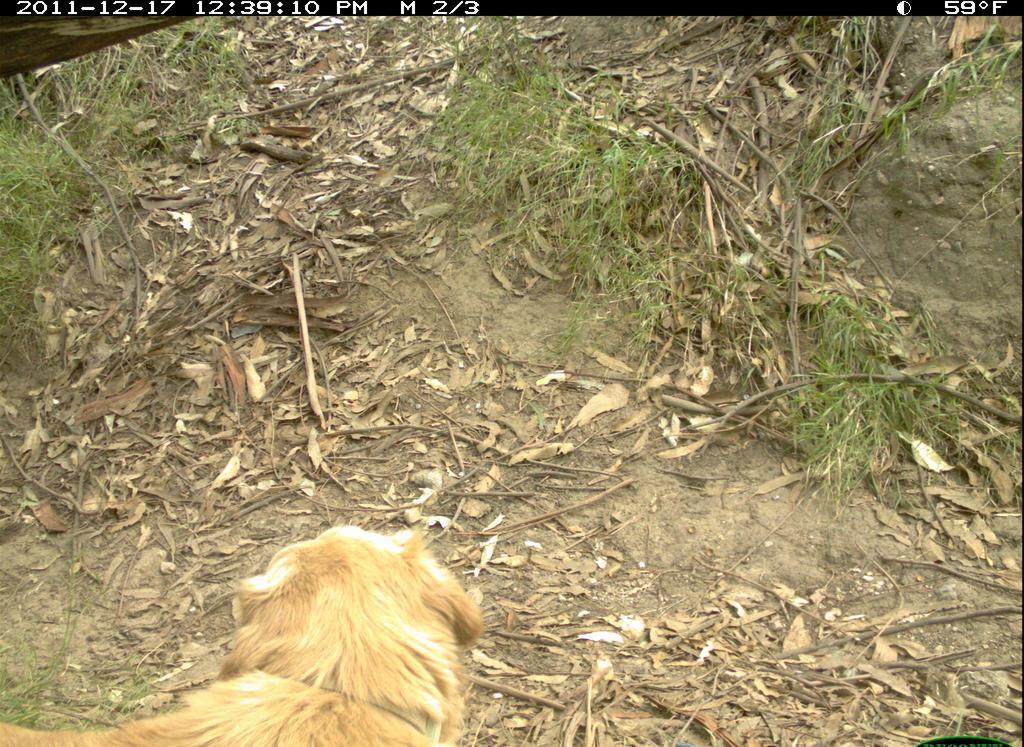dog: (1, 523, 510, 747)
